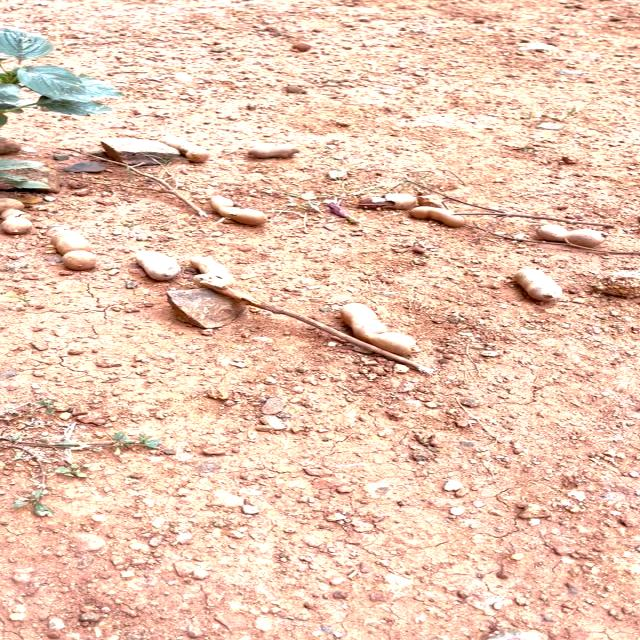tamarind: (338, 298, 424, 369), (512, 263, 572, 306), (532, 220, 618, 249), (48, 230, 102, 269), (206, 192, 269, 225), (155, 134, 214, 166), (0, 192, 39, 240), (406, 205, 474, 227), (246, 144, 314, 159)
